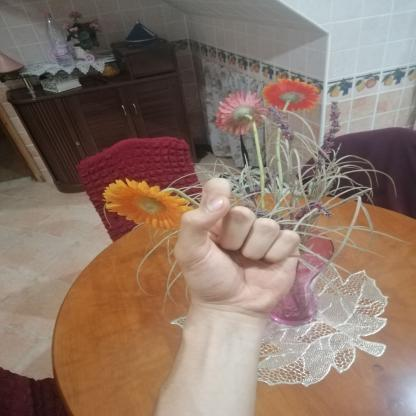FAA: (158, 169, 314, 324)
